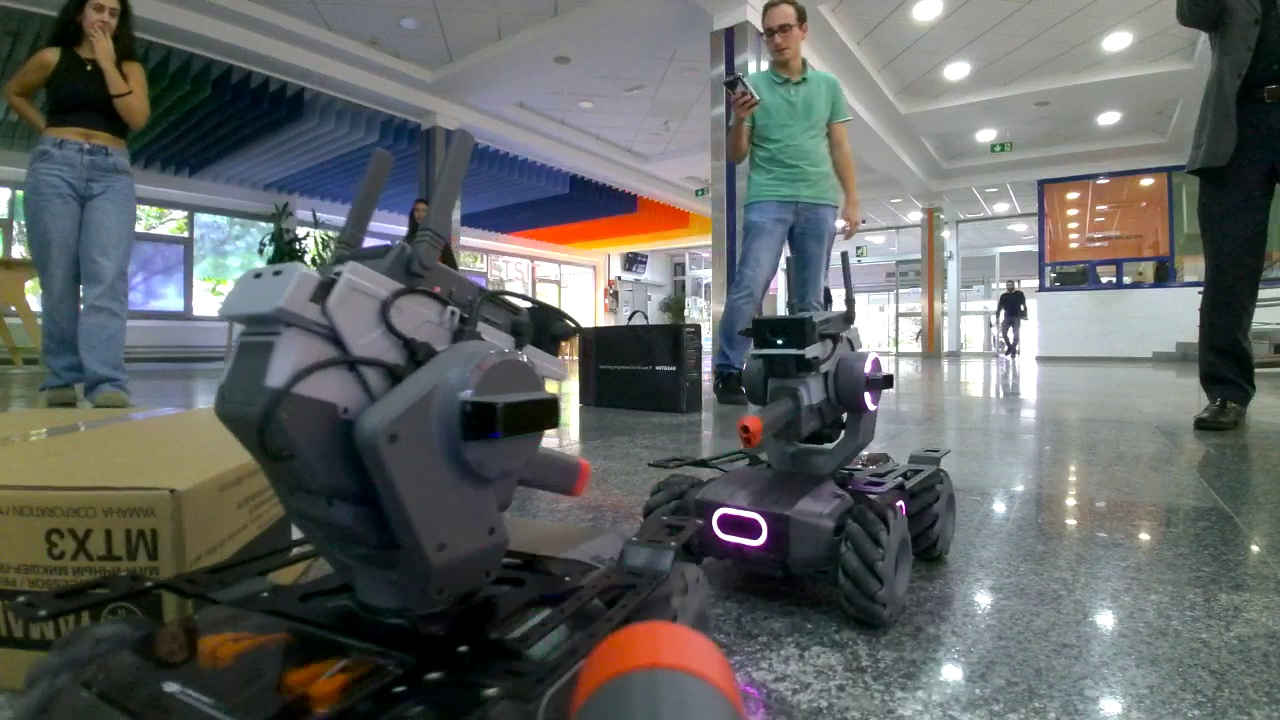robot: (9, 243, 709, 712), (641, 301, 959, 633)
